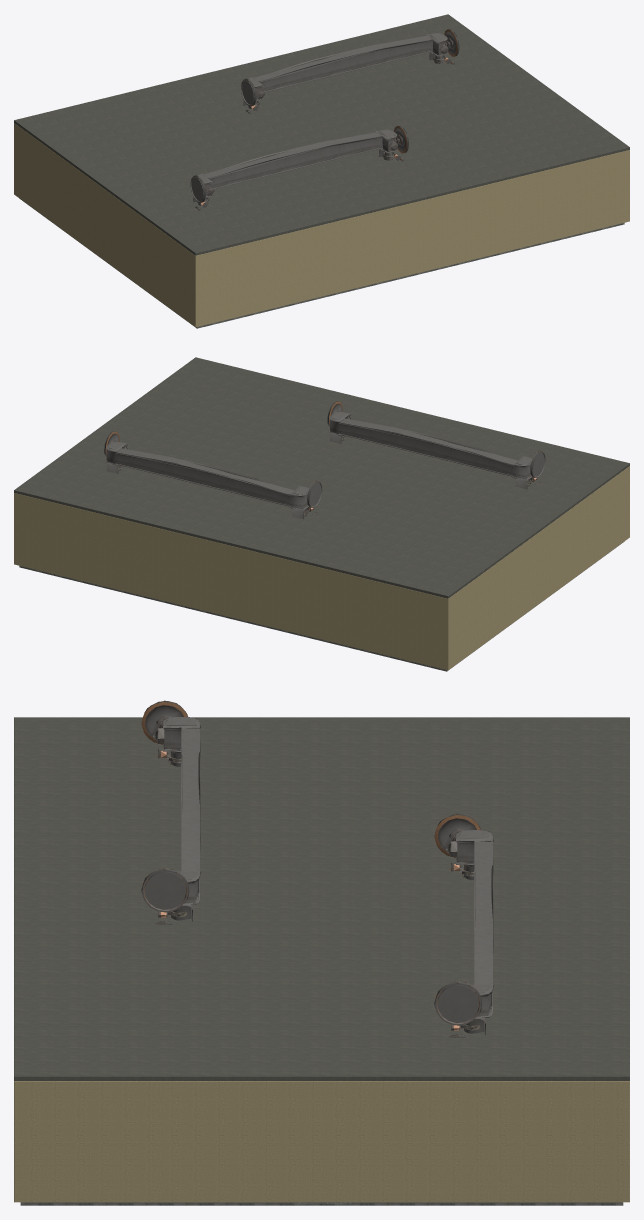
The model's file is pabrik.glb.
3 views of the same model, one above another, from view 1: azimuth 30°, elevation 25°; view 2: azimuth 150°, elevation 25°; view 3: azimuth 270°, elevation 25° (orthographic). The views are drawn at different scales.
Visible parts, largest first — view 1: statis; view 2: statis; view 3: statis.
Part boxes in pixels (<box>): statis: <box>14,14,629,328</box>; statis: <box>14,357,629,671</box>; statis: <box>14,700,629,1205</box>.
Size of the model in its own units: 50.8 by 12.36 by 36.8.
62 materials, 48 textured.
